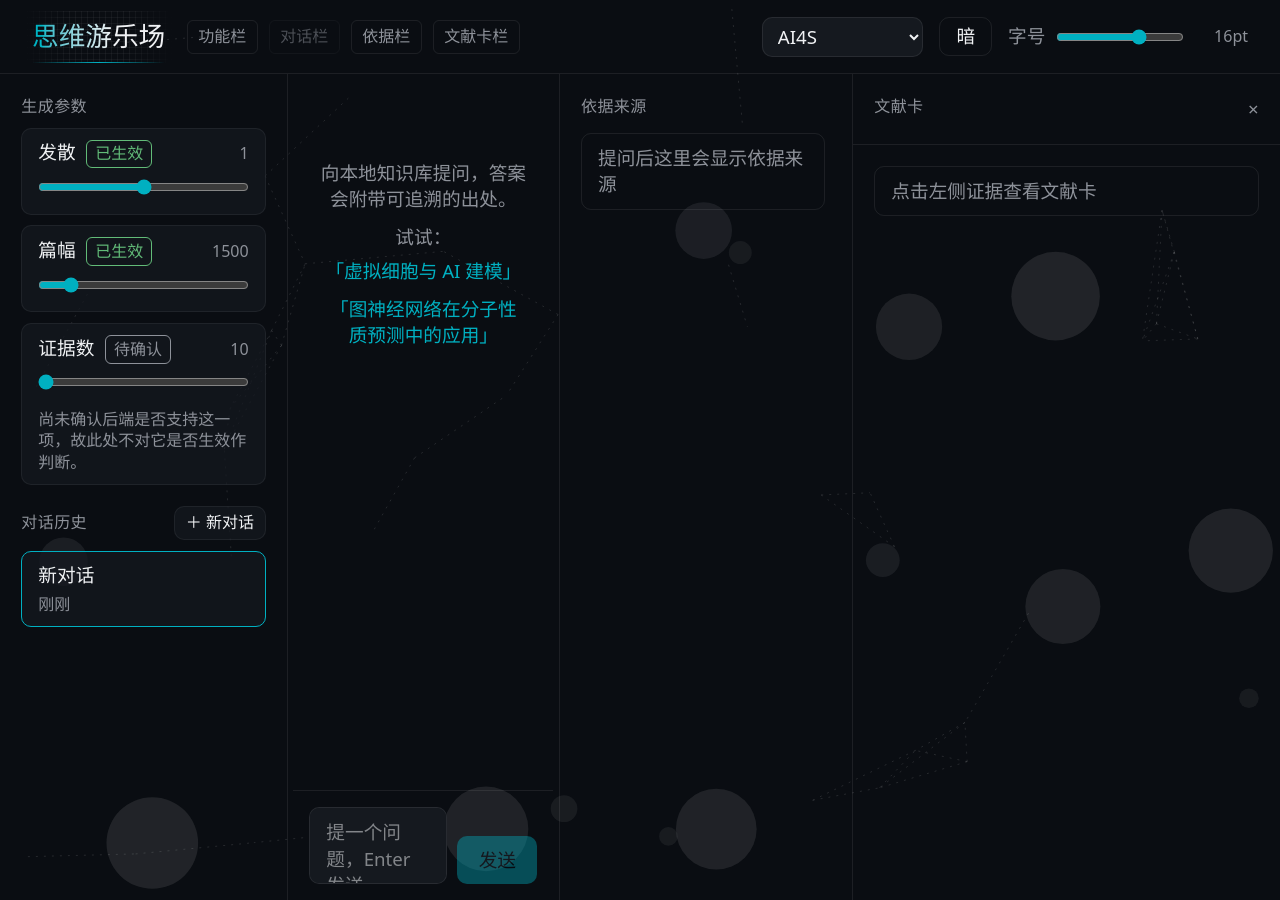
App › filters the evidence panel by round and restores the accumulated view
Type "第一问" into the text box at x=378, y=846, box [309, 807, 447, 884]
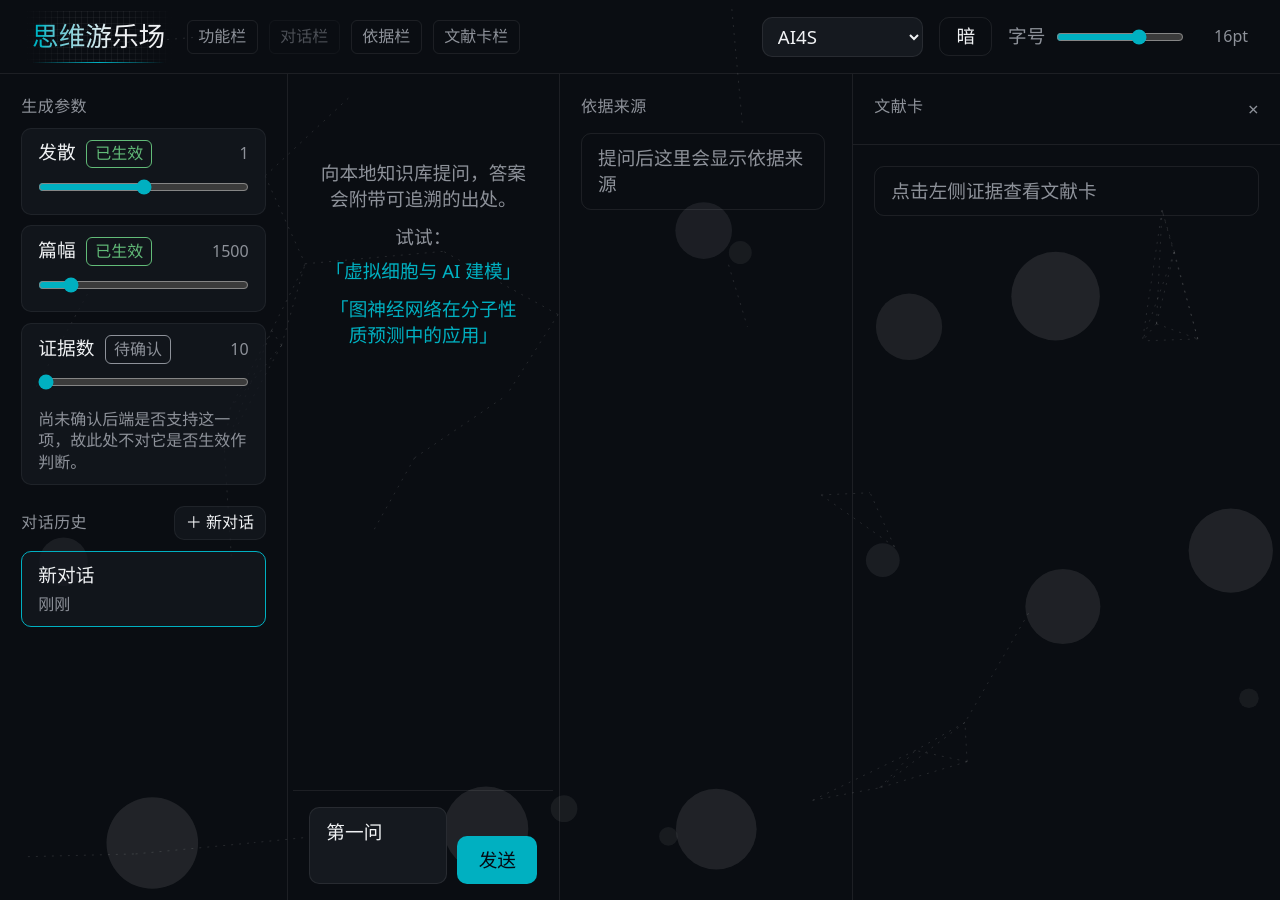
Press Enter in the text box, box [309, 807, 447, 884]
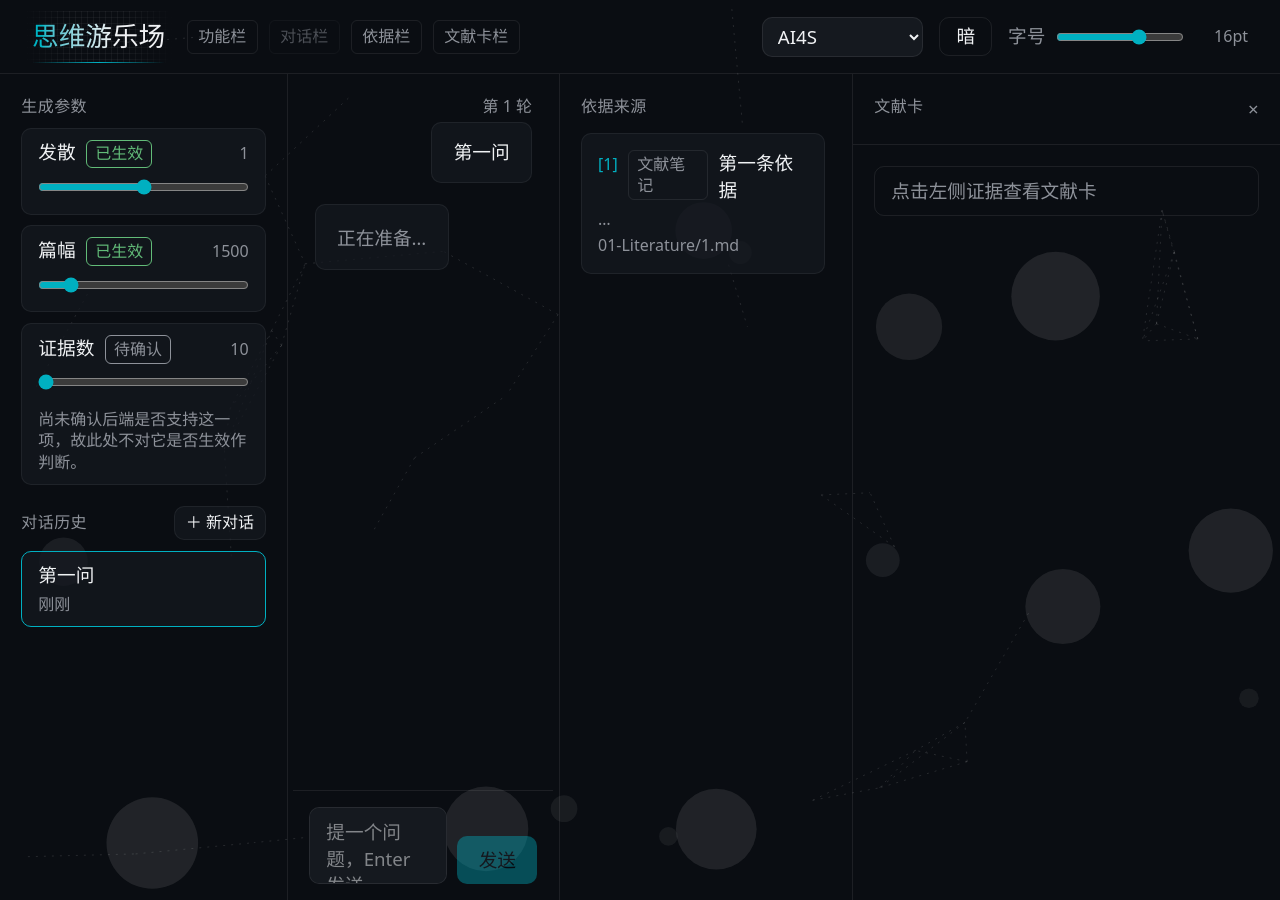
Expected: the text "第一条依据" is shown, [719, 150, 793, 202]
Type "第二问" into the text box at x=378, y=846, box [309, 807, 447, 884]
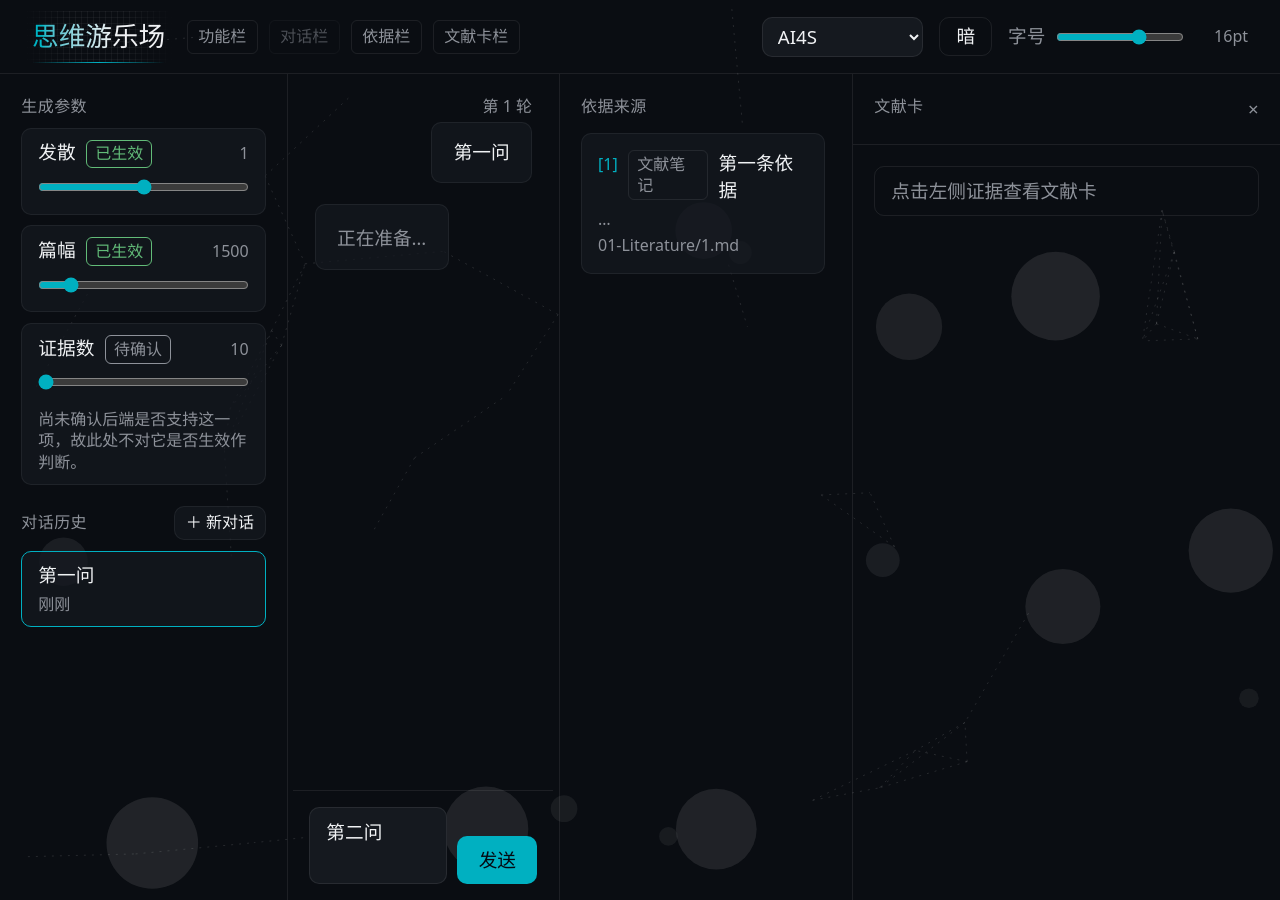
Press Enter in the text box, box [309, 807, 447, 884]
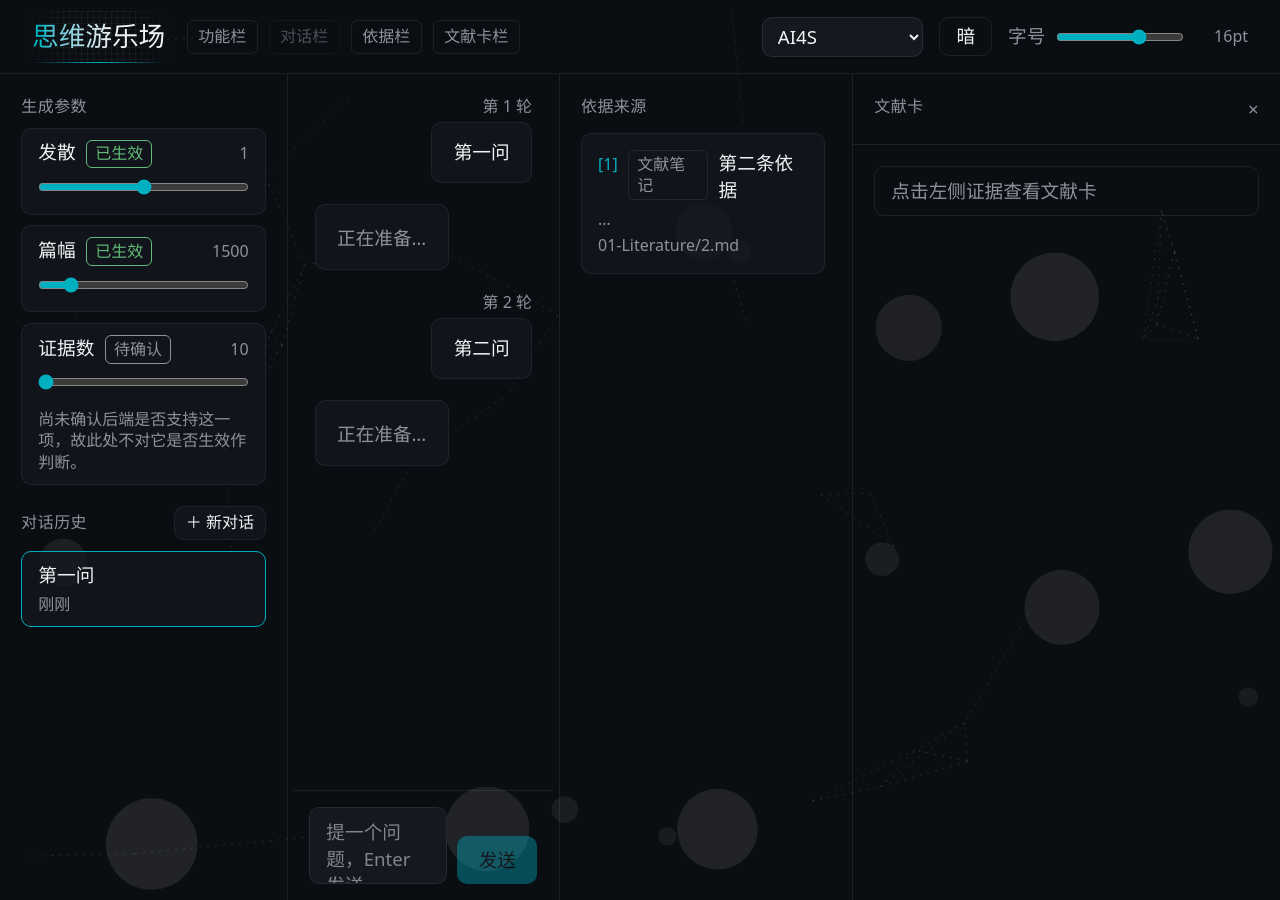
Expected: the text "第二条依据" is shown, [719, 150, 793, 202]
Expected: the button "第一条依据" is gone
Click the button "第 1 轮 第一问" at x=482, y=139, box [431, 95, 532, 183]
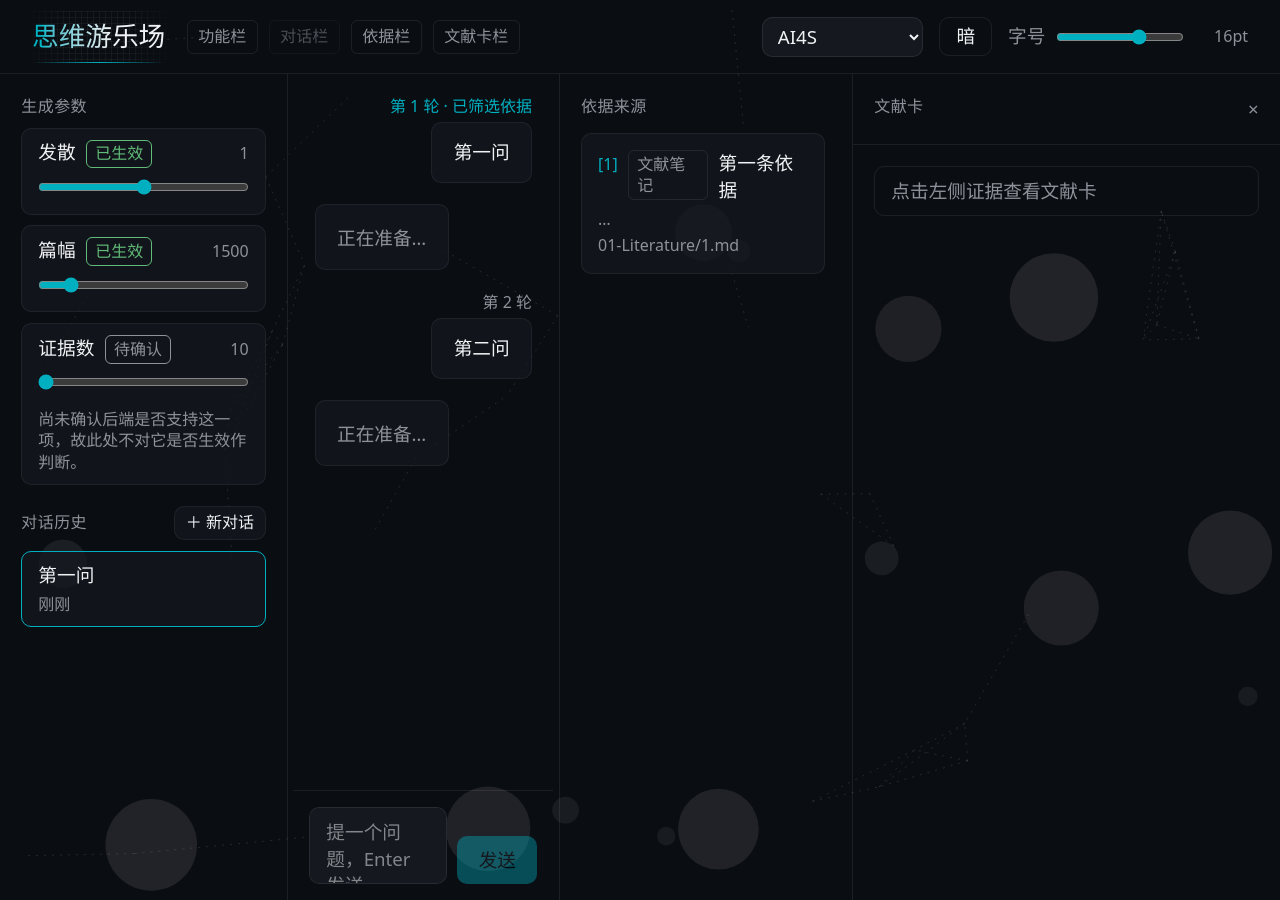
Expected: the text "第一条依据" is shown, [719, 150, 793, 202]
Expected: the button "第二条依据" is gone
Expected: the text "第 1 轮 · 已筛选依据" is shown, [390, 96, 532, 117]
Click the button "第 1 轮 · 已筛选依据 第一问" at x=461, y=139, box [390, 95, 532, 183]
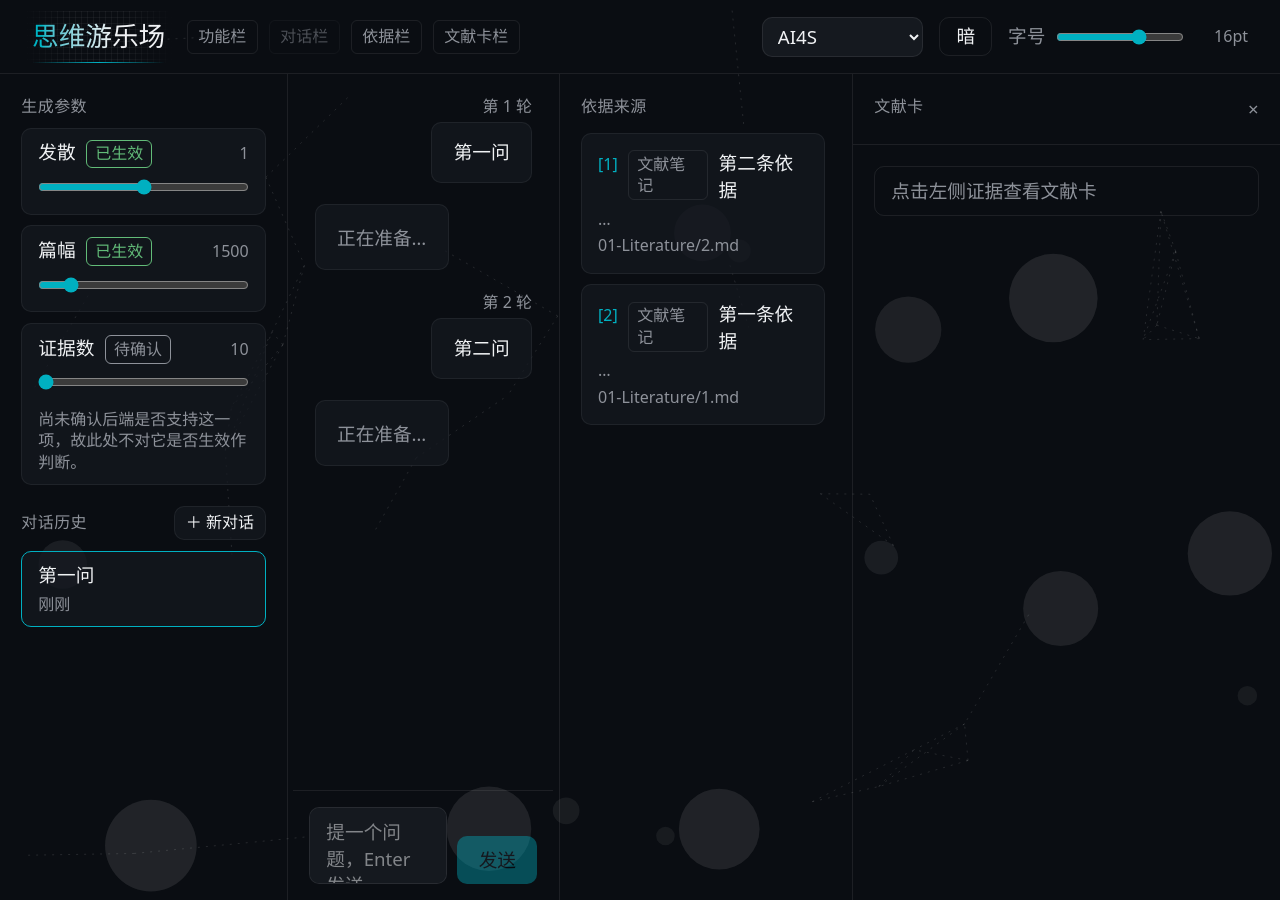
Expected: the text "第一条依据" is shown, [719, 302, 793, 353]
Expected: the text "第二条依据" is shown, [719, 150, 793, 202]
